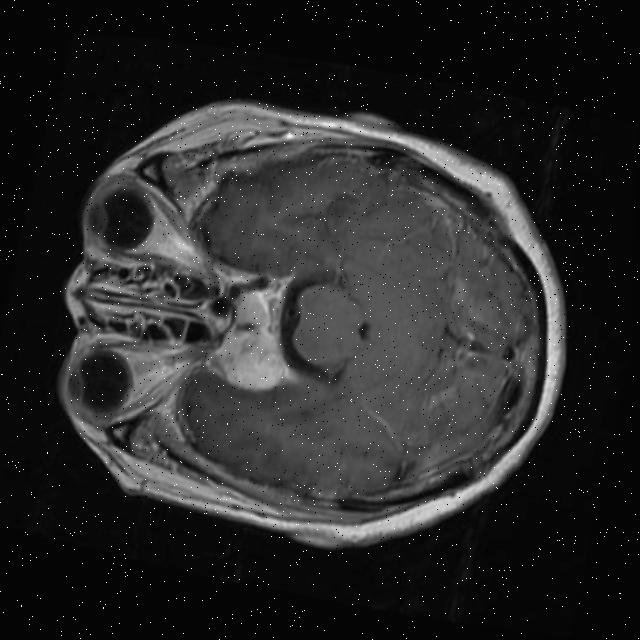Meningioma: (204, 321, 297, 396)
